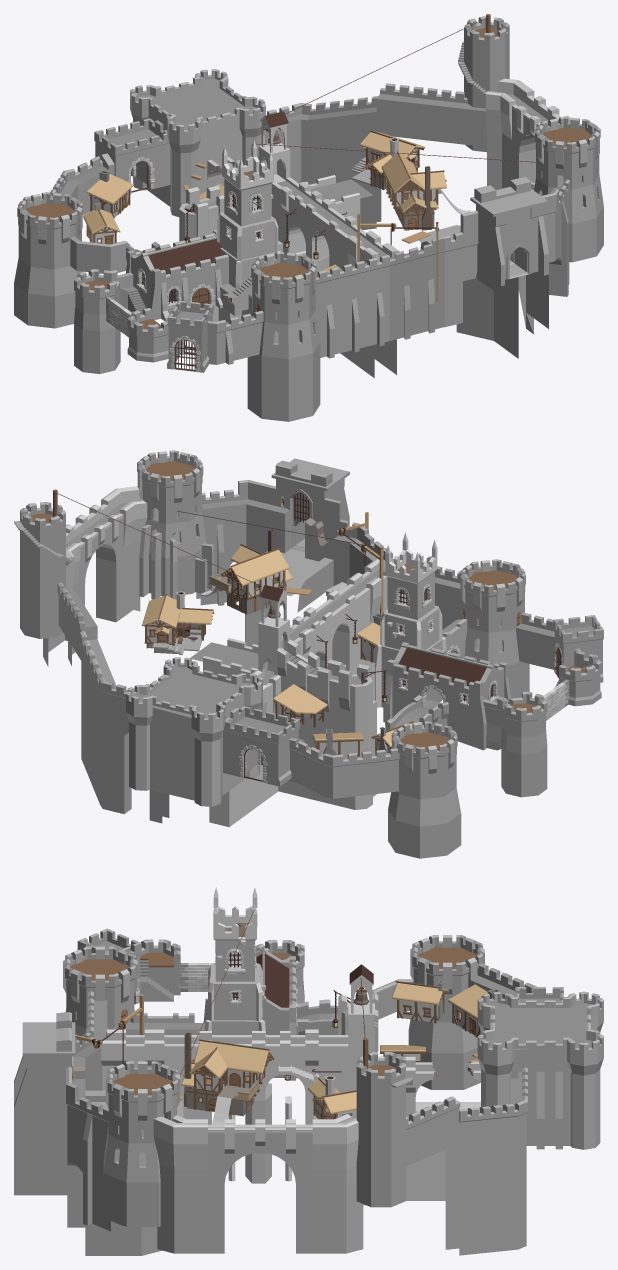
Rendered from Village.fbx.
3 views of the same model, one above another, from view 1: azimuth 30°, elevation 25°; view 2: azimuth 150°, elevation 25°; view 3: azimuth 270°, elevation 25° (orthographic). The views are drawn at different scales.
Visible parts, largest first — view 1: Alley-Wall, TallTower, EntryTower, CatapultTower, PortcullisGate, ExitTower, CartTower, ChurchTower, Church, EntryWallTowerLeft, Door.007, PortcullisGate.001 (+16 smaller); view 2: TallTower, Alley-Wall, CatapultTower, ExitTower, CartTower, PortcullisGate, EntryTower, Church, ChurchTower, EntryWallTowerLeft, Tower.003, Door.007 (+17 smaller); view 3: TallTower, Alley-Wall, CatapultTower, ExitTower, PortcullisGate, ChurchTower, CartTower, EntryTower, Church, PortcullisGate.001, Inn-Roof, EntryWallTowerRight (+18 smaller).
Boxes of the visible parts, x1,y1,x2,y2 form: Alley-Wall: (179,111,463,378); TallTower: (265,16,570,229); EntryTower: (207,252,320,421); CatapultTower: (130,69,265,217); PortcullisGate: (460,176,556,334); ExitTower: (531,116,603,296); CartTower: (14,192,82,328); ChurchTower: (207,128,305,289); Church: (125,229,228,321); EntryWallTowerLeft: (74,269,145,373); Door.007: (94,118,170,194); PortcullisGate.001: (418,225,518,358); TallTower: (14,486,169,823); Alley-Wall: (190,519,460,827); CatapultTower: (126,657,262,806); ExitTower: (137,450,248,605); CartTower: (388,721,461,858); PortcullisGate: (246,458,349,561); EntryTower: (460,559,566,698); Church: (383,642,511,750); ChurchTower: (267,532,447,707); EntryWallTowerLeft: (483,691,547,797); Tower.003: (288,738,399,798); Door.007: (223,706,299,786); TallTower: (153,1052,527,1255); Alley-Wall: (73,964,480,1205); CatapultTower: (477,991,603,1149); ExitTower: (66,1061,179,1231); PortcullisGate: (14,1012,85,1227); ChurchTower: (203,887,480,1181); CartTower: (408,935,484,1089); EntryTower: (63,946,137,1036); Church: (255,947,298,1080); PortcullisGate.001: (85,1090,183,1255); Inn-Roof: (181,1039,274,1087); EntryWallTowerRight: (140,939,180,1001).
Size of the model in its own units: 94.85 by 45.98 by 88.64.
2 materials, 2 textured.
